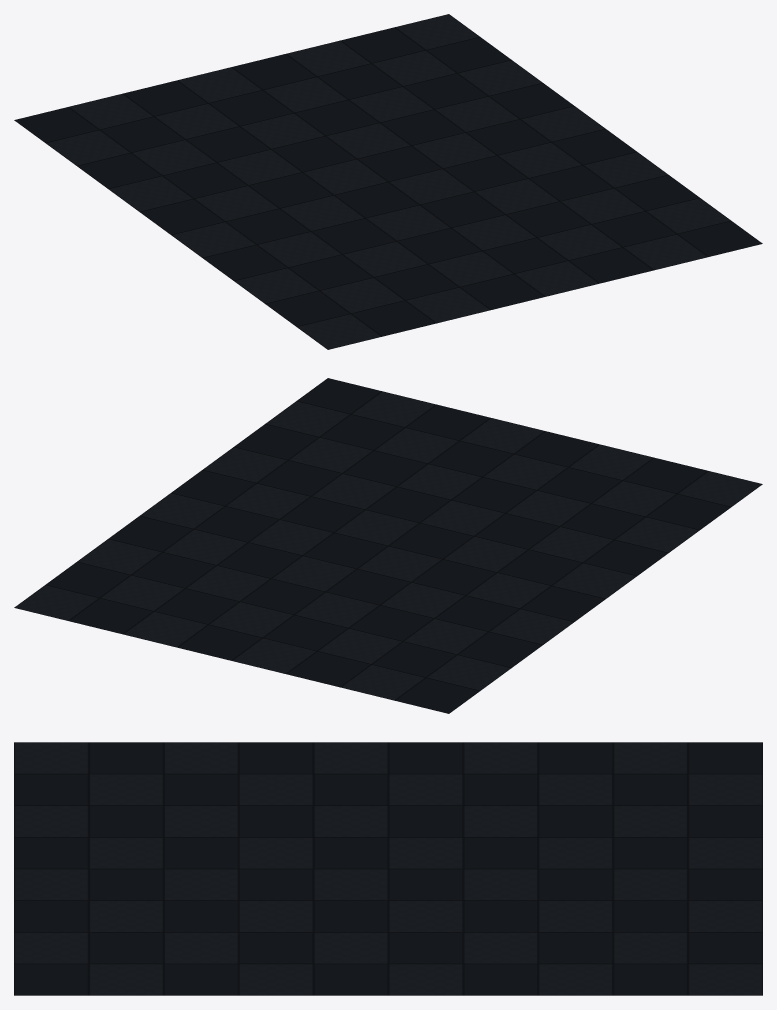
Rendered from neon-floor-normal.gltf.
3 renders of one model, top to bottom at view 1: azimuth 30°, elevation 25°; view 2: azimuth 150°, elevation 25°; view 3: azimuth 270°, elevation 25°, orthographic. The views are drawn at different scales.
Visible parts, largest first — view 1: Neon floor; view 2: Neon floor; view 3: Neon floor.
Boxes of the visible parts, box(x1,y1,x2,y2) form: Neon floor: box(14, 14, 762, 349); Neon floor: box(14, 378, 762, 713); Neon floor: box(14, 742, 762, 995).
Size of the model in its own units: 6 by 0 by 7.5.
Materials: 1 (1 with a texture image).
